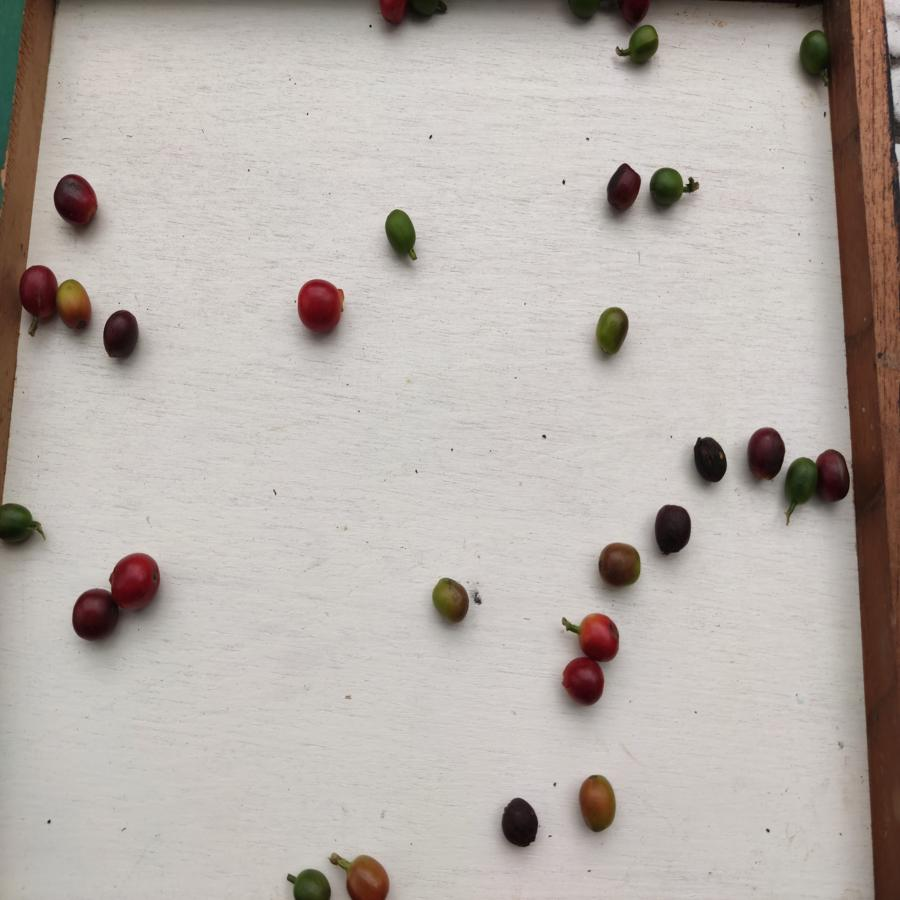Inmaduro: (643, 163, 687, 209), (796, 28, 832, 80), (784, 453, 816, 511), (384, 210, 420, 259), (286, 864, 334, 900), (627, 27, 662, 63)
Maduro: (292, 279, 346, 335), (114, 552, 162, 611), (560, 658, 608, 707), (576, 614, 621, 665)
Pinton: (576, 773, 619, 836), (53, 280, 96, 332), (599, 542, 645, 590), (344, 855, 393, 900), (427, 575, 472, 623), (591, 306, 629, 357)
Sobremaduro: (70, 588, 117, 648), (51, 175, 101, 225), (740, 424, 785, 479), (16, 263, 58, 321), (99, 310, 145, 360), (604, 162, 643, 214), (814, 446, 852, 499), (498, 799, 539, 847), (690, 433, 729, 483), (655, 504, 692, 555)
